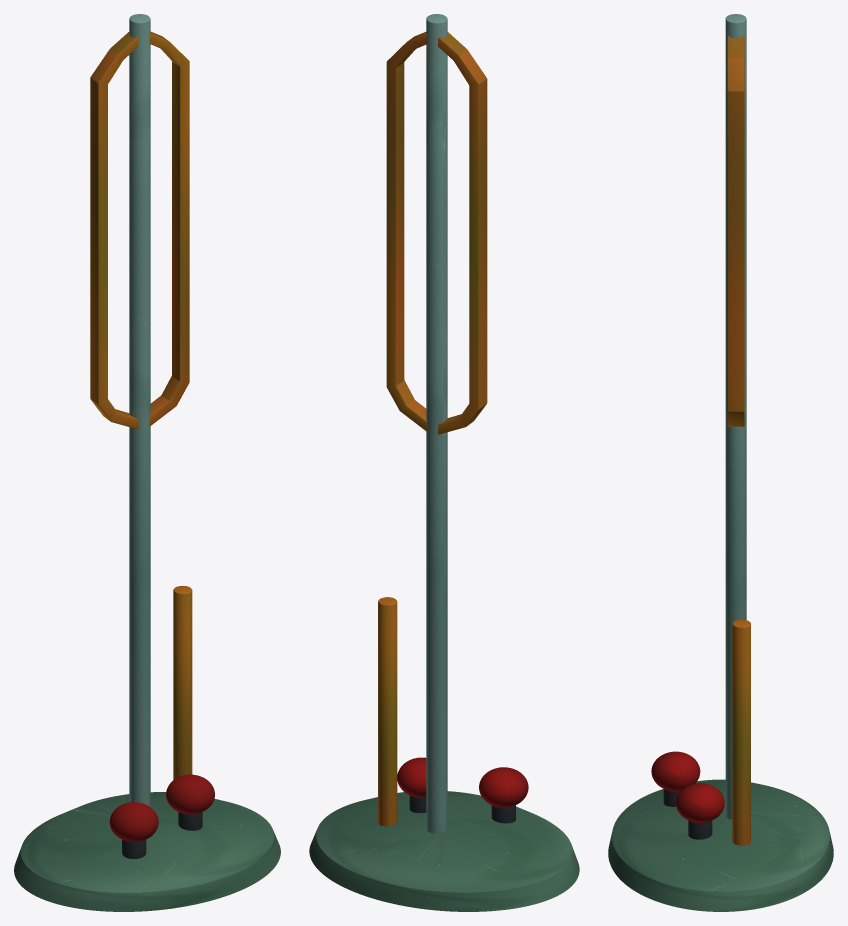
3 views of the same model, side by side, from view 1: azimuth 30°, elevation 25°; view 2: azimuth 150°, elevation 25°; view 3: azimuth 270°, elevation 25° (orthographic).
Parts seen in each view (by area): view 1: Deep Probes low green oval plinth, Deep Probes central teal mast, Deep Probes open brass capsule frame, Deep Probes short brass rod, Deep Probes red rounded housing 1, Deep Probes red rounded housing 0; view 2: Deep Probes low green oval plinth, Deep Probes central teal mast, Deep Probes open brass capsule frame, Deep Probes short brass rod, Deep Probes red rounded housing 0, Deep Probes red rounded housing 1; view 3: Deep Probes low green oval plinth, Deep Probes central teal mast, Deep Probes open brass capsule frame, Deep Probes short brass rod, Deep Probes red rounded housing 1, Deep Probes red rounded housing 0.
Part boxes in pixels (x1,y1,x2,y2): Deep Probes low green oval plinth: [14, 792, 280, 911]; Deep Probes central teal mast: [129, 14, 150, 806]; Deep Probes open brass capsule frame: [90, 31, 189, 429]; Deep Probes short brass rod: [173, 585, 192, 779]; Deep Probes red rounded housing 1: [166, 774, 214, 814]; Deep Probes red rounded housing 0: [109, 802, 158, 841]; Deep Probes low green oval plinth: [309, 791, 579, 911]; Deep Probes central teal mast: [426, 14, 447, 833]; Deep Probes open brass capsule frame: [386, 32, 487, 434]; Deep Probes short brass rod: [378, 597, 397, 826]; Deep Probes red rounded housing 0: [479, 767, 528, 807]; Deep Probes red rounded housing 1: [397, 757, 426, 797]; Deep Probes low green oval plinth: [608, 779, 833, 911]; Deep Probes central teal mast: [725, 14, 746, 819]; Deep Probes open brass capsule frame: [727, 35, 744, 426]; Deep Probes short brass rod: [732, 619, 750, 845]; Deep Probes red rounded housing 1: [676, 783, 724, 822]; Deep Probes red rounded housing 0: [651, 751, 700, 791].
Size of the model in its own units: 0.74 by 2.47 by 0.6.
5 materials, 4 textured.
